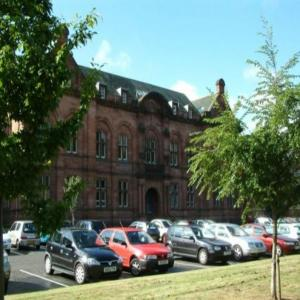Vehicle-registration-plate: (105, 267, 118, 276)
